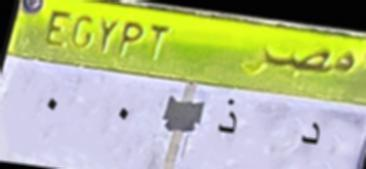0: (44, 94, 63, 121), (116, 103, 132, 128)
daal: (296, 114, 324, 156)
zaal: (212, 93, 242, 145)
